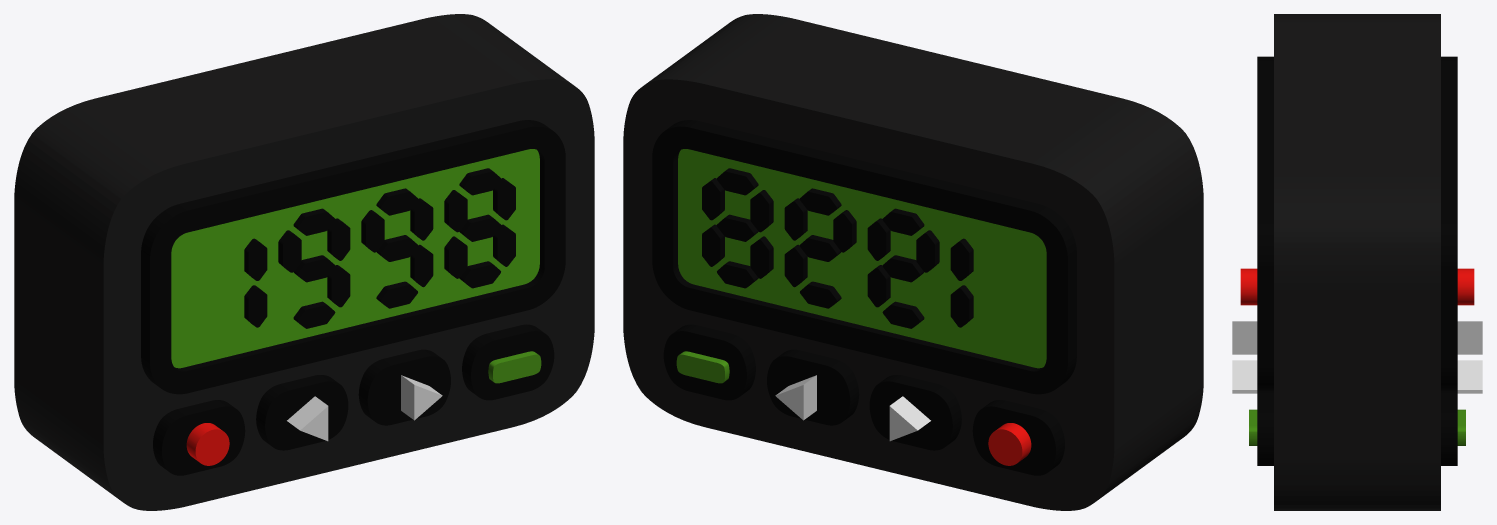
The picture shows the model from 3 angles, left to right: view 1: azimuth 30°, elevation 25°; view 2: azimuth 150°, elevation 25°; view 3: azimuth 270°, elevation 25°; orthographic projection. The views are drawn at different scales.
Parts seen in each view (by area): view 1: U+1F4DF_layer00_obj00, U+1F4DF_layer01_obj00, U+1F4DF_layer02_obj16, U+1F4DF_layer02_obj25, U+1F4DF_layer02_obj04, U+1F4DF_layer02_obj15, U+1F4DF_layer02_obj24, U+1F4DF_layer04_obj00, U+1F4DF_layer03_obj00, U+1F4DF_layer05_obj01, U+1F4DF_layer05_obj00, U+1F4DF_layer02_obj06 (+20 smaller); view 2: U+1F4DF_layer00_obj00, U+1F4DF_layer01_obj00, U+1F4DF_layer02_obj16, U+1F4DF_layer02_obj25, U+1F4DF_layer02_obj04, U+1F4DF_layer02_obj15, U+1F4DF_layer02_obj24, U+1F4DF_layer04_obj00, U+1F4DF_layer03_obj00, U+1F4DF_layer05_obj01, U+1F4DF_layer05_obj00, U+1F4DF_layer02_obj06 (+20 smaller); view 3: U+1F4DF_layer00_obj00, U+1F4DF_layer02_obj16, U+1F4DF_layer02_obj15, U+1F4DF_layer05_obj00, U+1F4DF_layer05_obj01, U+1F4DF_layer04_obj00, U+1F4DF_layer03_obj00.
Part boxes in pixels (box(x1,y1,x2,y2)): U+1F4DF_layer00_obj00: box(14, 14, 594, 510); U+1F4DF_layer01_obj00: box(171, 149, 539, 368); U+1F4DF_layer02_obj16: box(141, 120, 565, 394); U+1F4DF_layer02_obj25: box(256, 375, 348, 450); U+1F4DF_layer02_obj04: box(358, 349, 450, 425); U+1F4DF_layer02_obj15: box(462, 324, 554, 400); U+1F4DF_layer02_obj24: box(153, 400, 245, 475); U+1F4DF_layer04_obj00: box(186, 423, 229, 465); U+1F4DF_layer03_obj00: box(488, 351, 541, 383); U+1F4DF_layer05_obj01: box(287, 396, 328, 441); U+1F4DF_layer05_obj00: box(401, 375, 442, 420); U+1F4DF_layer02_obj06: box(361, 210, 384, 252); U+1F4DF_layer00_obj00: box(623, 14, 1203, 510); U+1F4DF_layer01_obj00: box(678, 149, 1046, 368); U+1F4DF_layer02_obj16: box(652, 120, 1076, 394); U+1F4DF_layer02_obj25: box(869, 375, 961, 450); U+1F4DF_layer02_obj04: box(767, 349, 859, 425); U+1F4DF_layer02_obj15: box(663, 324, 755, 400); U+1F4DF_layer02_obj24: box(972, 400, 1064, 475); U+1F4DF_layer04_obj00: box(988, 423, 1031, 465); U+1F4DF_layer03_obj00: box(676, 351, 729, 383); U+1F4DF_layer05_obj01: box(889, 396, 930, 441); U+1F4DF_layer05_obj00: box(775, 375, 816, 420); U+1F4DF_layer02_obj06: box(833, 210, 856, 252); U+1F4DF_layer00_obj00: box(1274, 14, 1440, 510); U+1F4DF_layer02_obj16: box(1257, 56, 1457, 390); U+1F4DF_layer02_obj15: box(1257, 390, 1457, 465); U+1F4DF_layer05_obj00: box(1232, 360, 1482, 393); U+1F4DF_layer05_obj01: box(1232, 321, 1482, 354); U+1F4DF_layer04_obj00: box(1240, 268, 1474, 305); U+1F4DF_layer03_obj00: box(1249, 409, 1465, 445).
Size of the model in its own units: 0.3175 by 0.2122 by 0.15.
